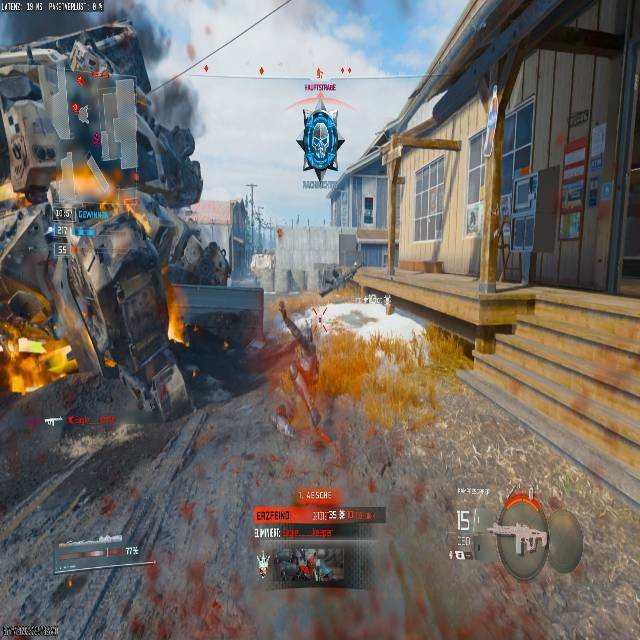player: (296, 108, 344, 181)
